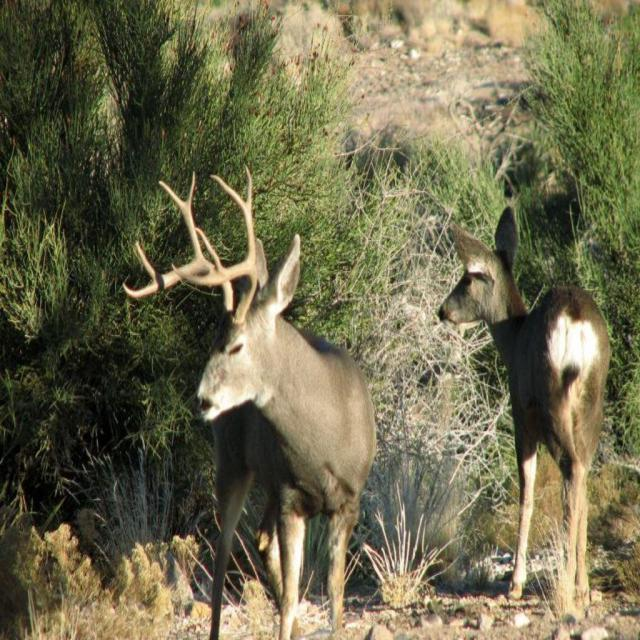Deer: (113, 163, 373, 640), (436, 207, 613, 610)
